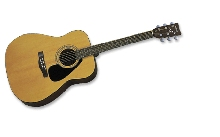guitar: (4, 23, 182, 109)
